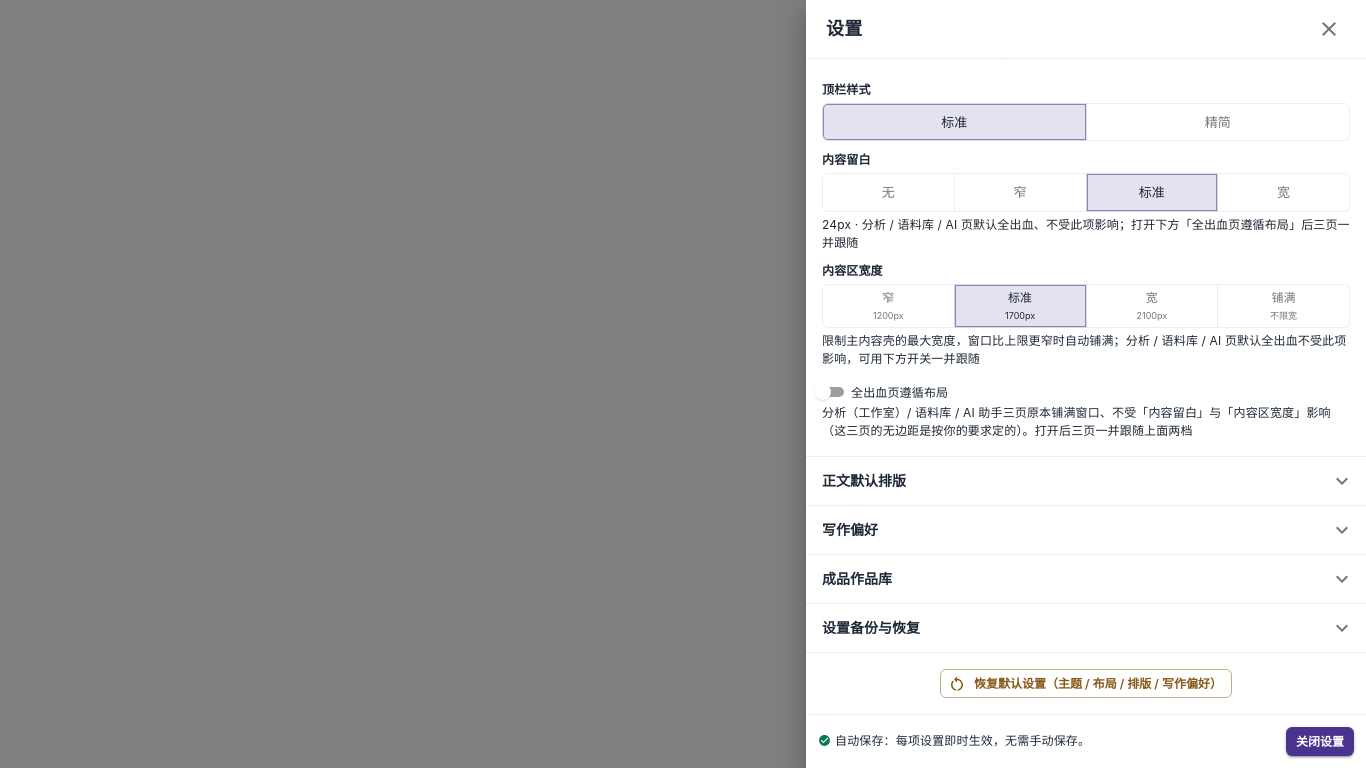
Test case: 设置抽屉 · 书级排版覆盖 › 恢复默认弹窗说明边界：书级覆盖不归这颗按钮管
(page scrolled)
Click the button with test id "settings-reset-all". click: {"x": 1086, "y": 684}
box: [940, 669, 1232, 698]
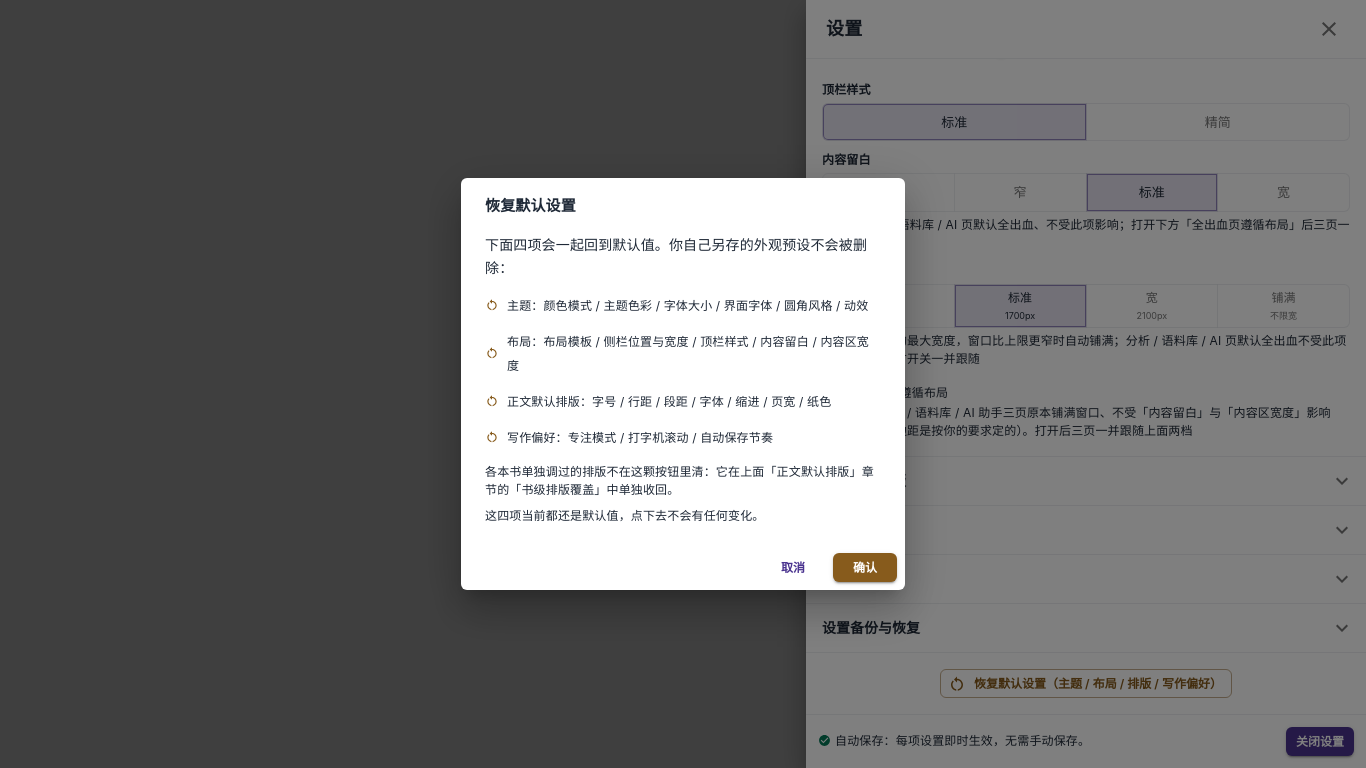
Now the text with test id "settings-reset-book-note" shows "单独调过的排版", box [485, 464, 874, 497]
